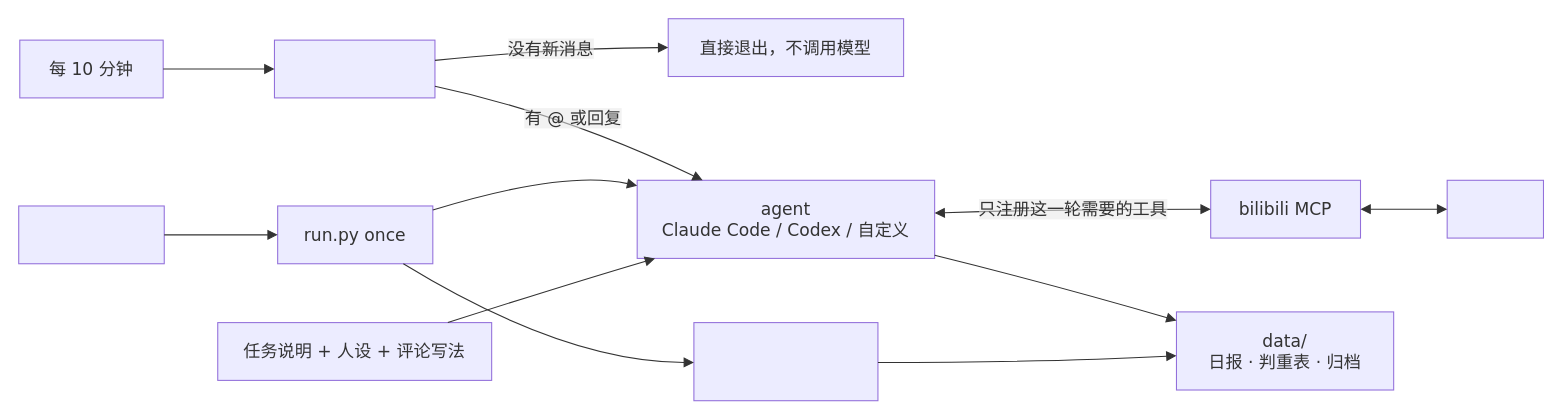
This 1562x419 diagram has some shape labels left out. The centre of each missing label's shape, as x and y in pixels:
"B 站" goes at (1494,208).
"run.py inbox" goes at (354,68).
"每天 12:00" goes at (91,234).
"评论可见性检查 以游客身份" goes at (785,361).
